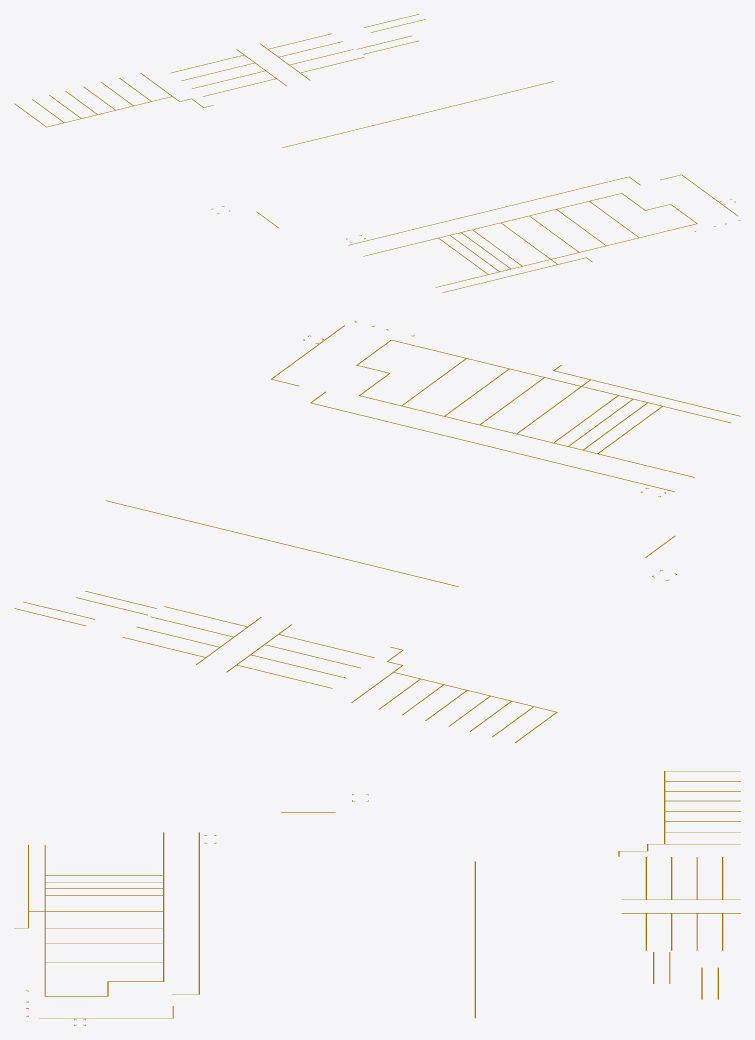
File: YF_LT_HuangXian.FBX
3 renders of one model, top to bottom at view 1: azimuth 30°, elevation 25°; view 2: azimuth 150°, elevation 25°; view 3: azimuth 270°, elevation 25°, orthographic. The views are drawn at different scales.
Size of the model in its own units: 3979 by 0.000463 by 4798.
